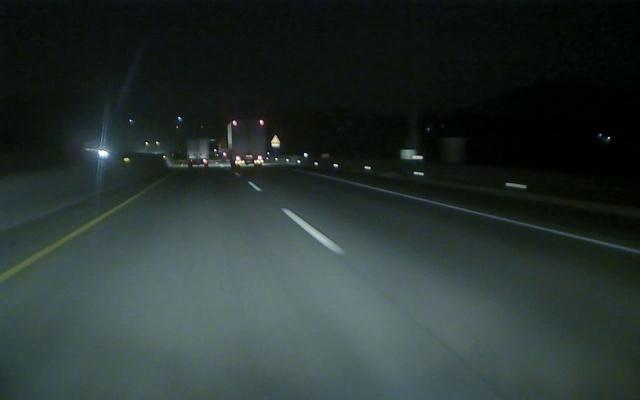lane: (336, 179, 637, 255), (1, 190, 147, 281), (248, 182, 346, 254)
